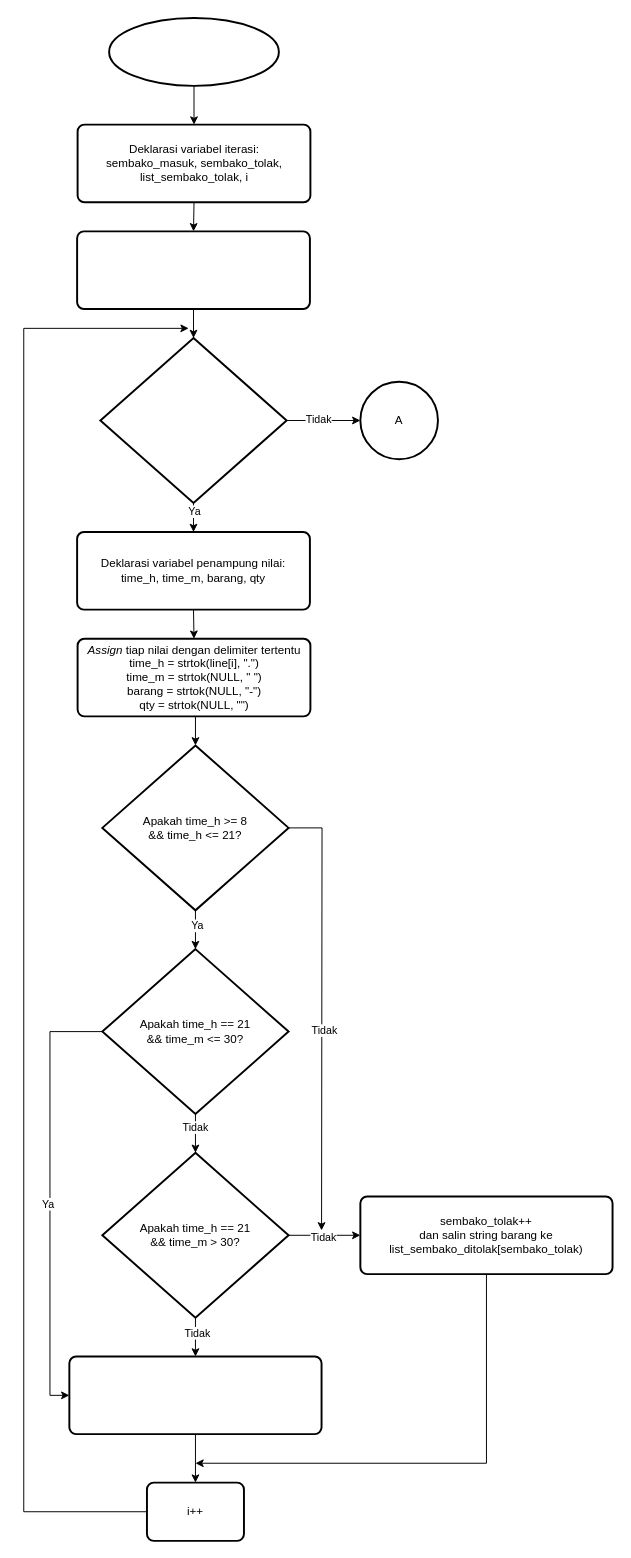
Some shapes in this 631 by 1558 pixel diagram are drawn without their labels. Each missing label, with the centre of its shape:
Apakah i < line_len?: point (193, 420)
getSembako(line, line_len): point (193, 51)
sembako_masuk = 0 sembako_tolak = 0 i = 1: point (193, 269)
sembako_masuk++ display("- %s sebanyak %s\n", barang, qty): point (195, 1395)
